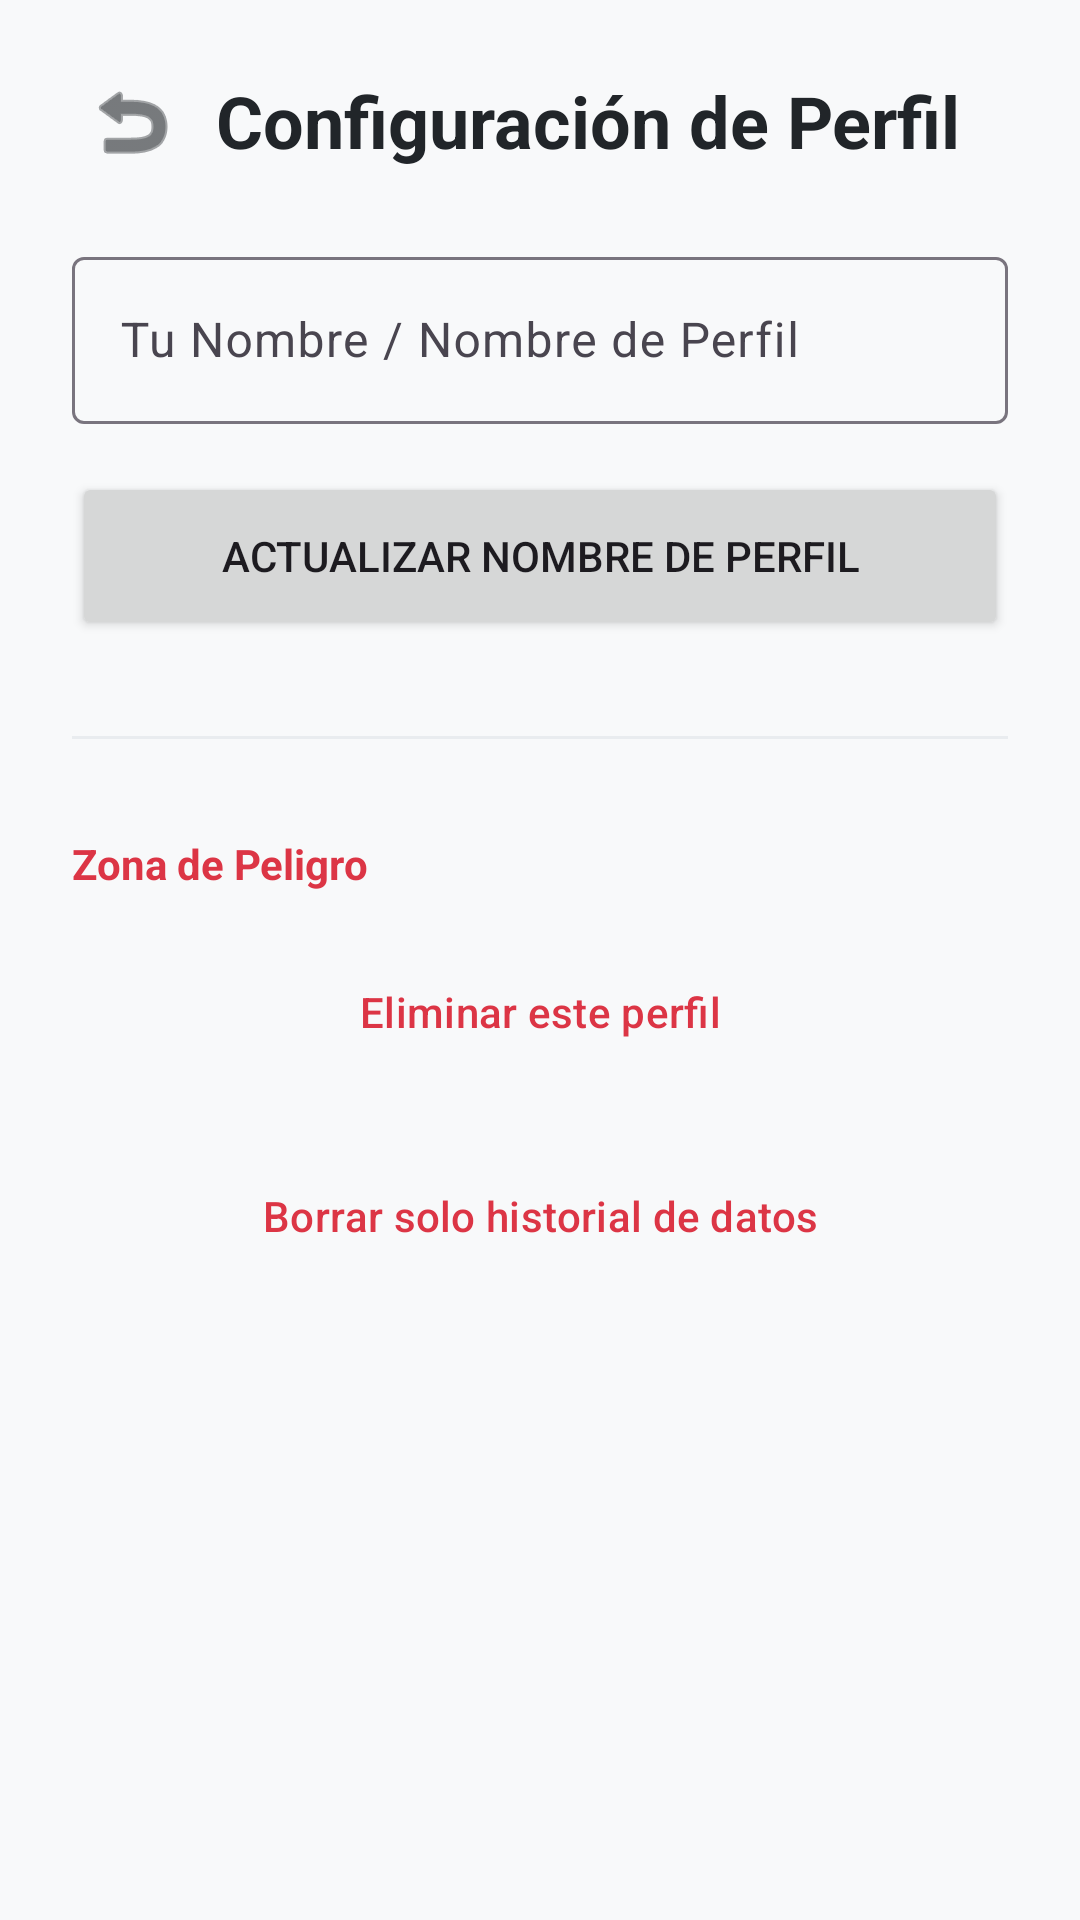

Named icons in this screenshot (1080x1920) and their centers, (x,y):
Regresar: (133,122)
